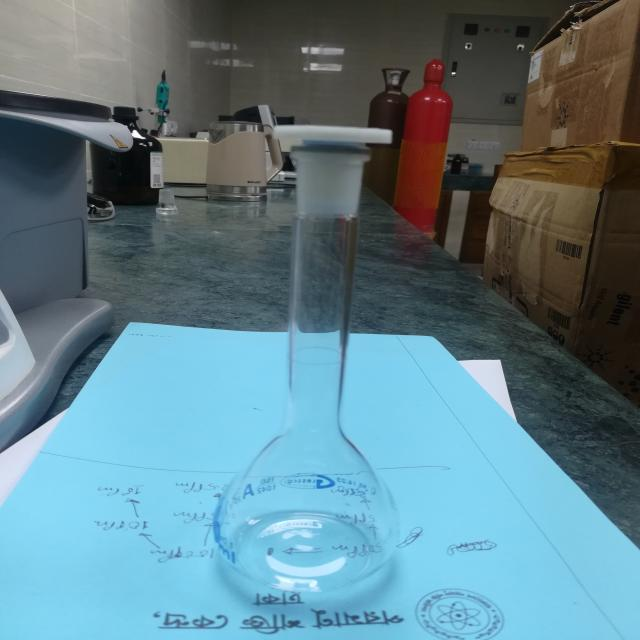Volumetric_Flask: (194, 81, 426, 608)
